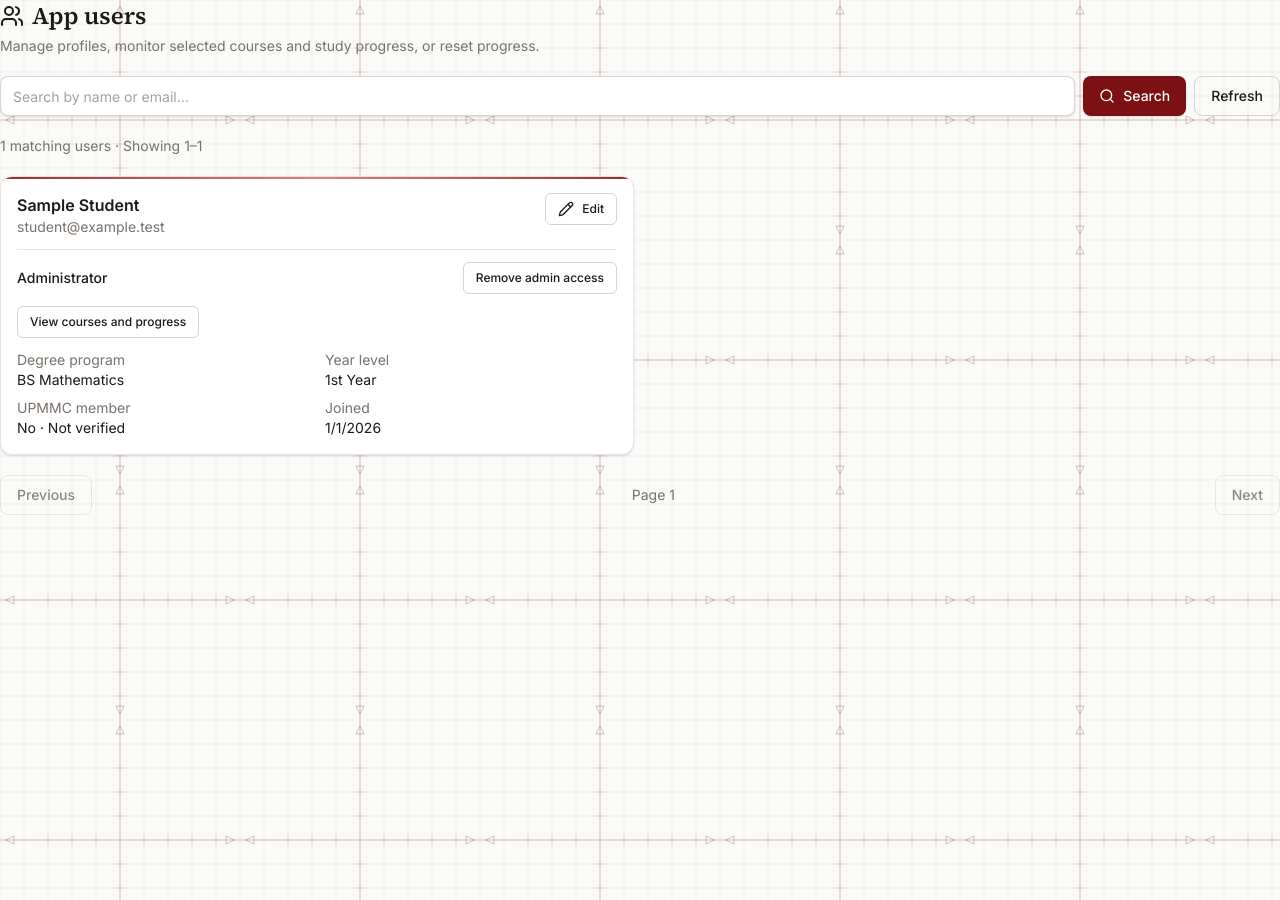
Test: admin users › lets only the super admin confirm removal of a delegated admin
This screenshot has width=1280, height=900.
Step 1. Click the button "Remove admin access" → (540, 278), box [463, 262, 617, 294]
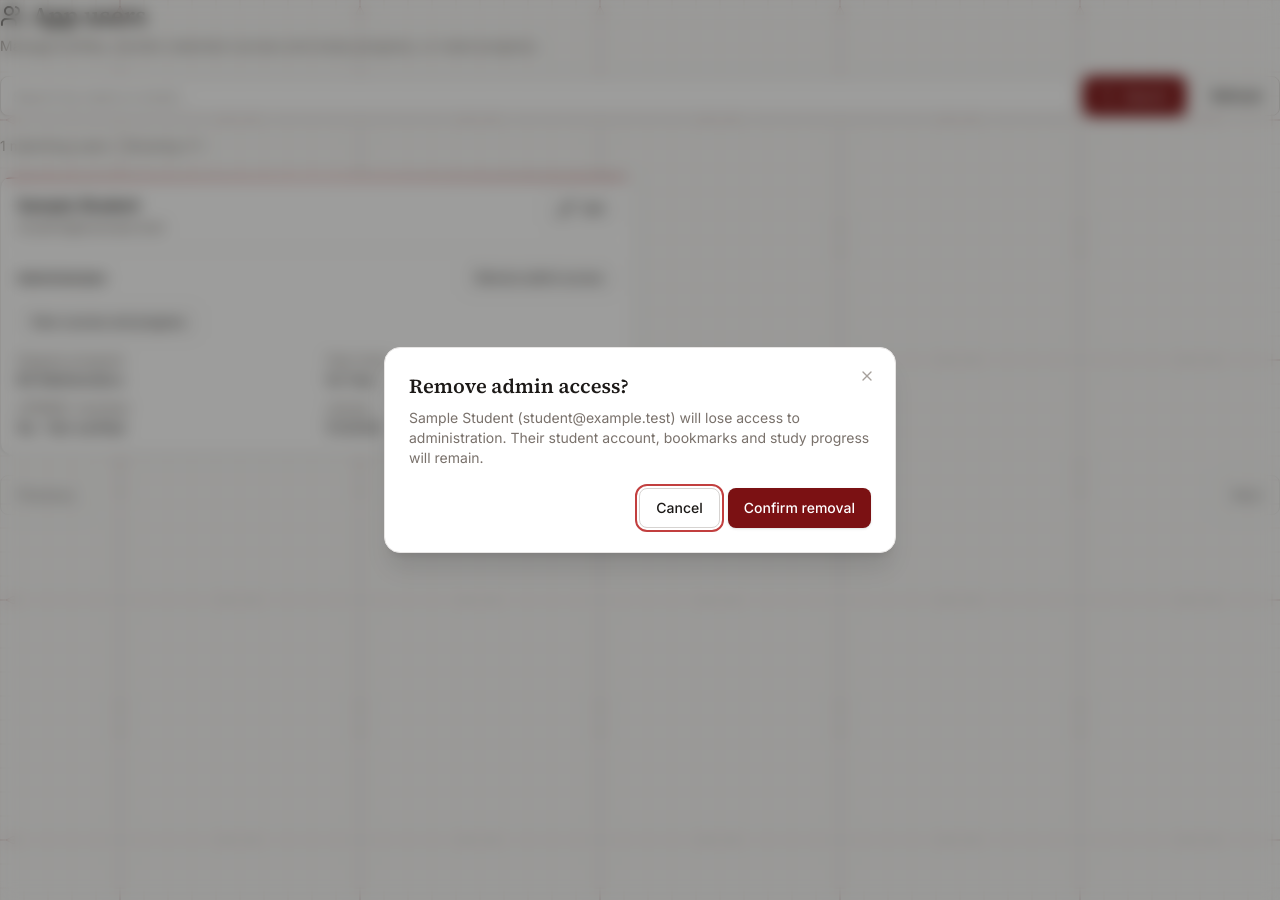
Expected: the dialog shows "student@example.test", [523, 409, 670, 426]
Step 2. Click the button "Confirm removal" → (799, 508), box [728, 488, 871, 528]
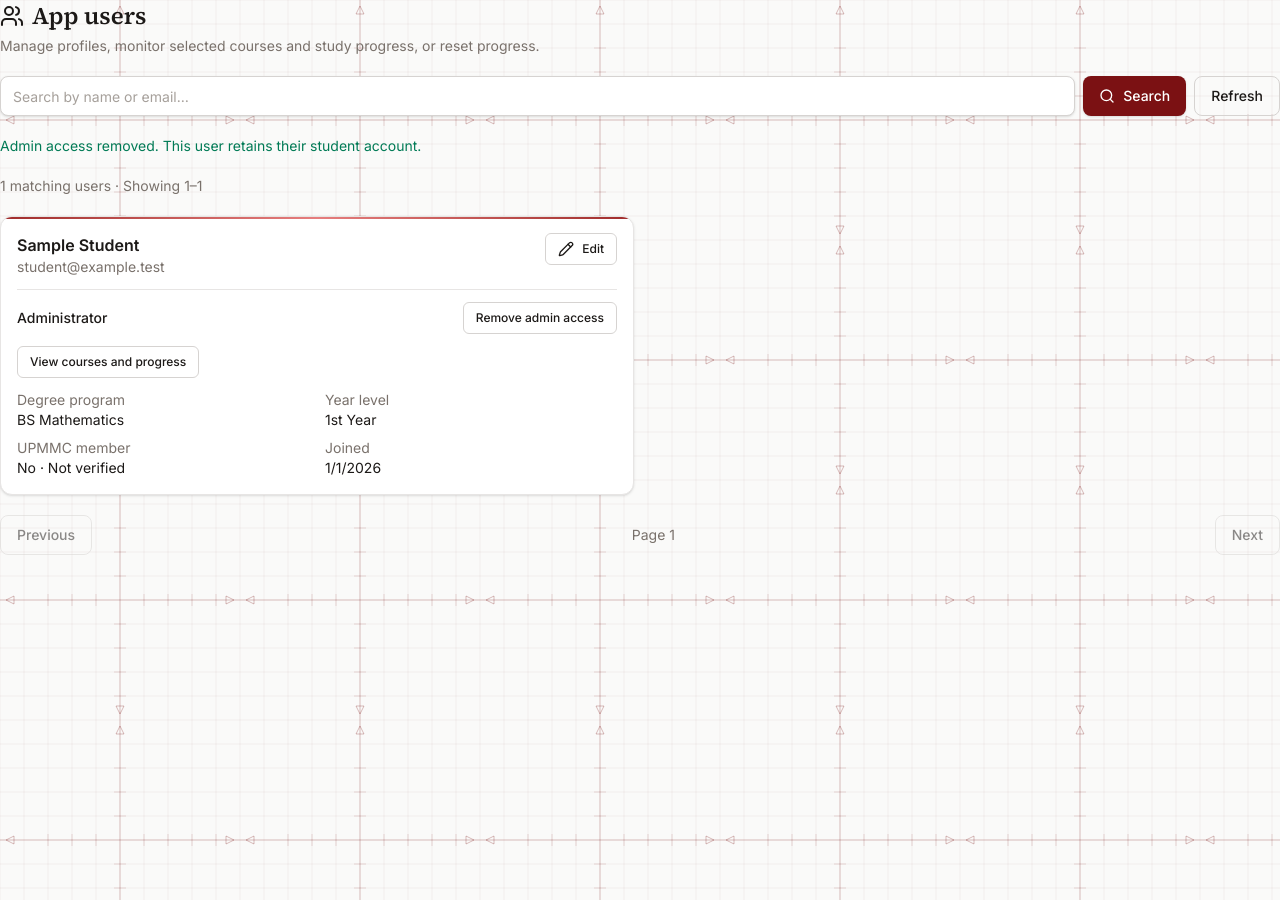
Expected: the text "Admin access removed. This user retains their student account." is shown, [0, 137, 421, 154]
